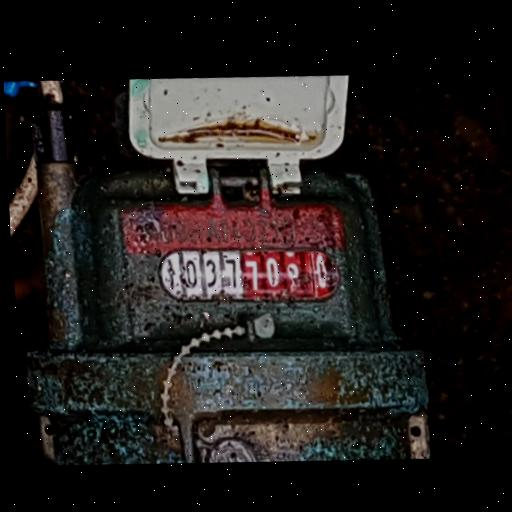0: (303, 249, 333, 302), (177, 250, 206, 302), (262, 251, 288, 302)
1: (158, 250, 183, 302)
3: (200, 251, 226, 302)
7: (241, 250, 268, 301), (220, 250, 246, 302)
8: (283, 250, 309, 302)
border_water_meter_number: (155, 235, 344, 315)
